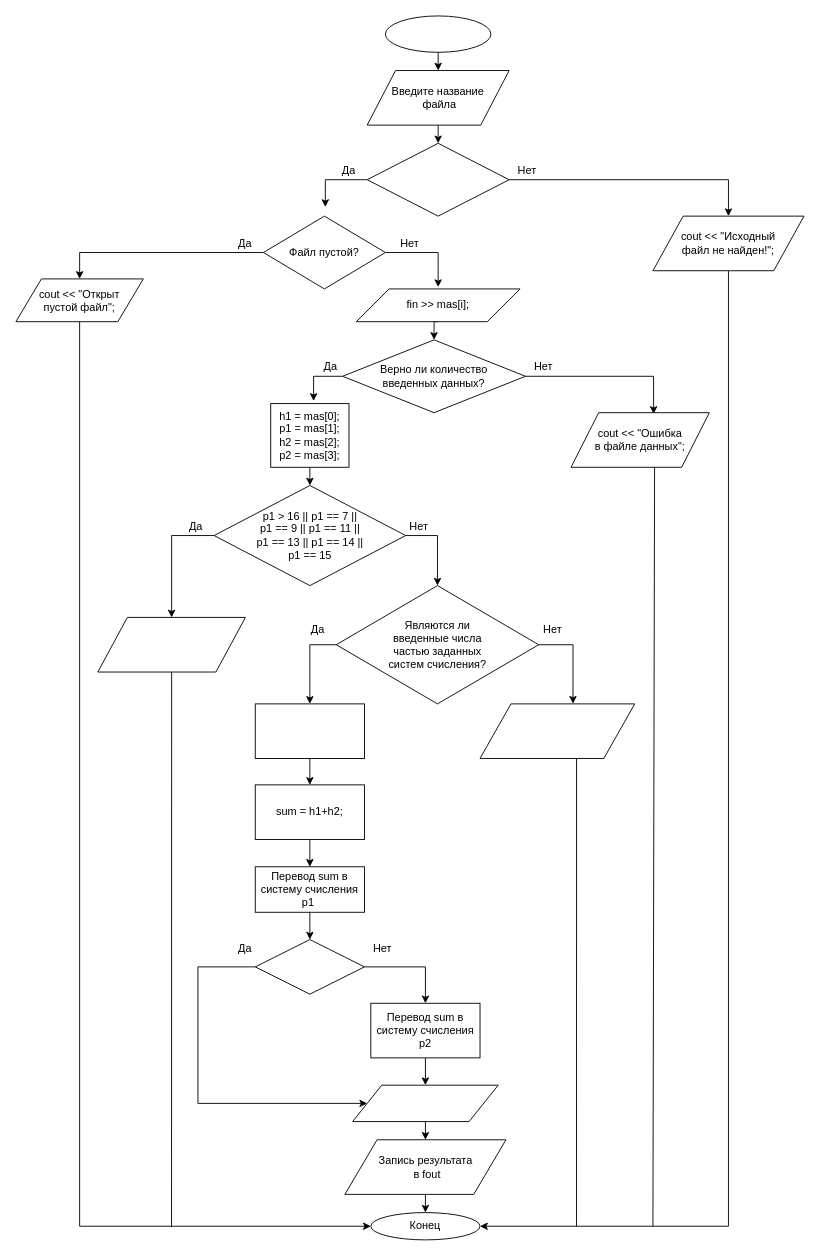
This 820x1256 diagram has some shape labels left out. The shapes that lost their labels are listed below. From the top down, each one's centre as x and y in pixels, then its label:
(x=437, y=33): Начало
(x=437, y=179): Файл существует?
(x=171, y=644): cout << "Ошибка при вводе системы счисления"
(x=309, y=730): Перевод h1, h2 в десятичный вид
(x=557, y=730): cout << "Ошибка при вводе системы счисления";
(x=309, y=966): p1==p2
(x=425, y=1103): Вывод результата
